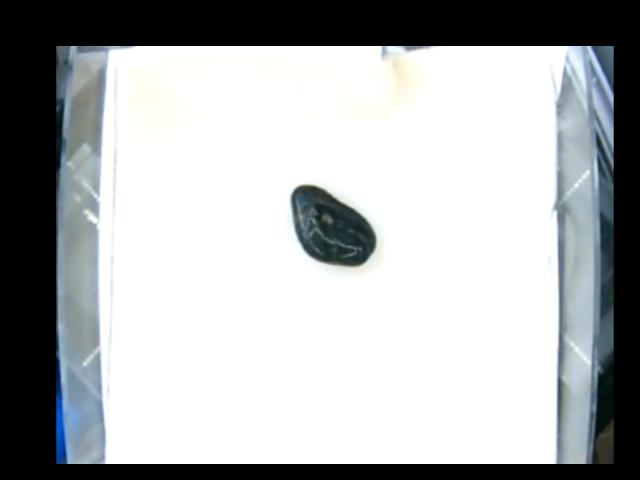Pebble: (290, 183, 377, 268)
